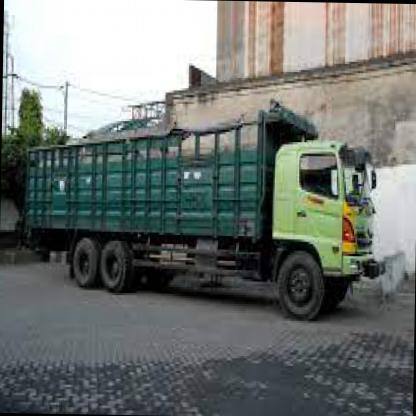truck: (263, 135, 380, 323)
